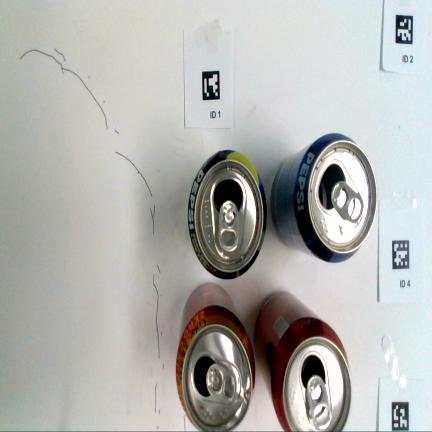can_coke_decaf: (176, 283, 255, 432)
can_coke_zero: (255, 291, 351, 432)
can_pepsi: (271, 133, 376, 262)
can_pepsi_zero: (187, 150, 266, 278)
